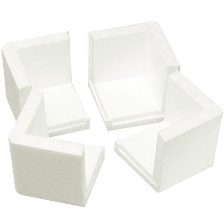foam_box: (110, 65, 224, 195), (5, 86, 108, 211), (84, 18, 187, 133), (0, 27, 92, 141)
